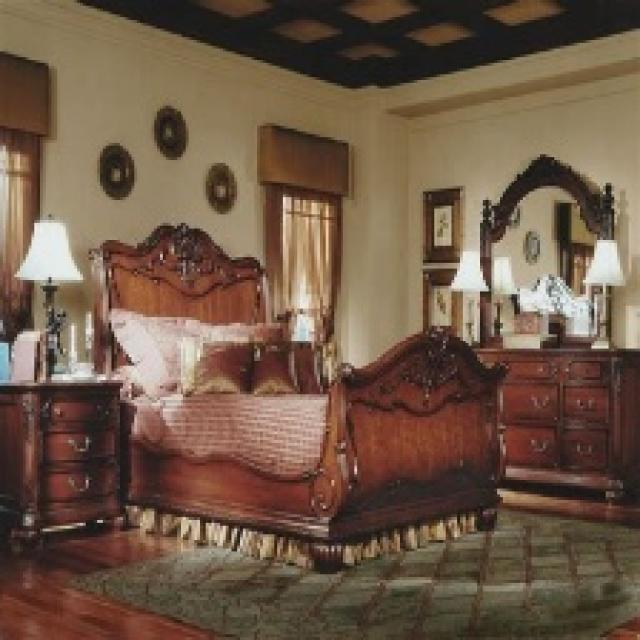Bed: (86, 220, 508, 571)
